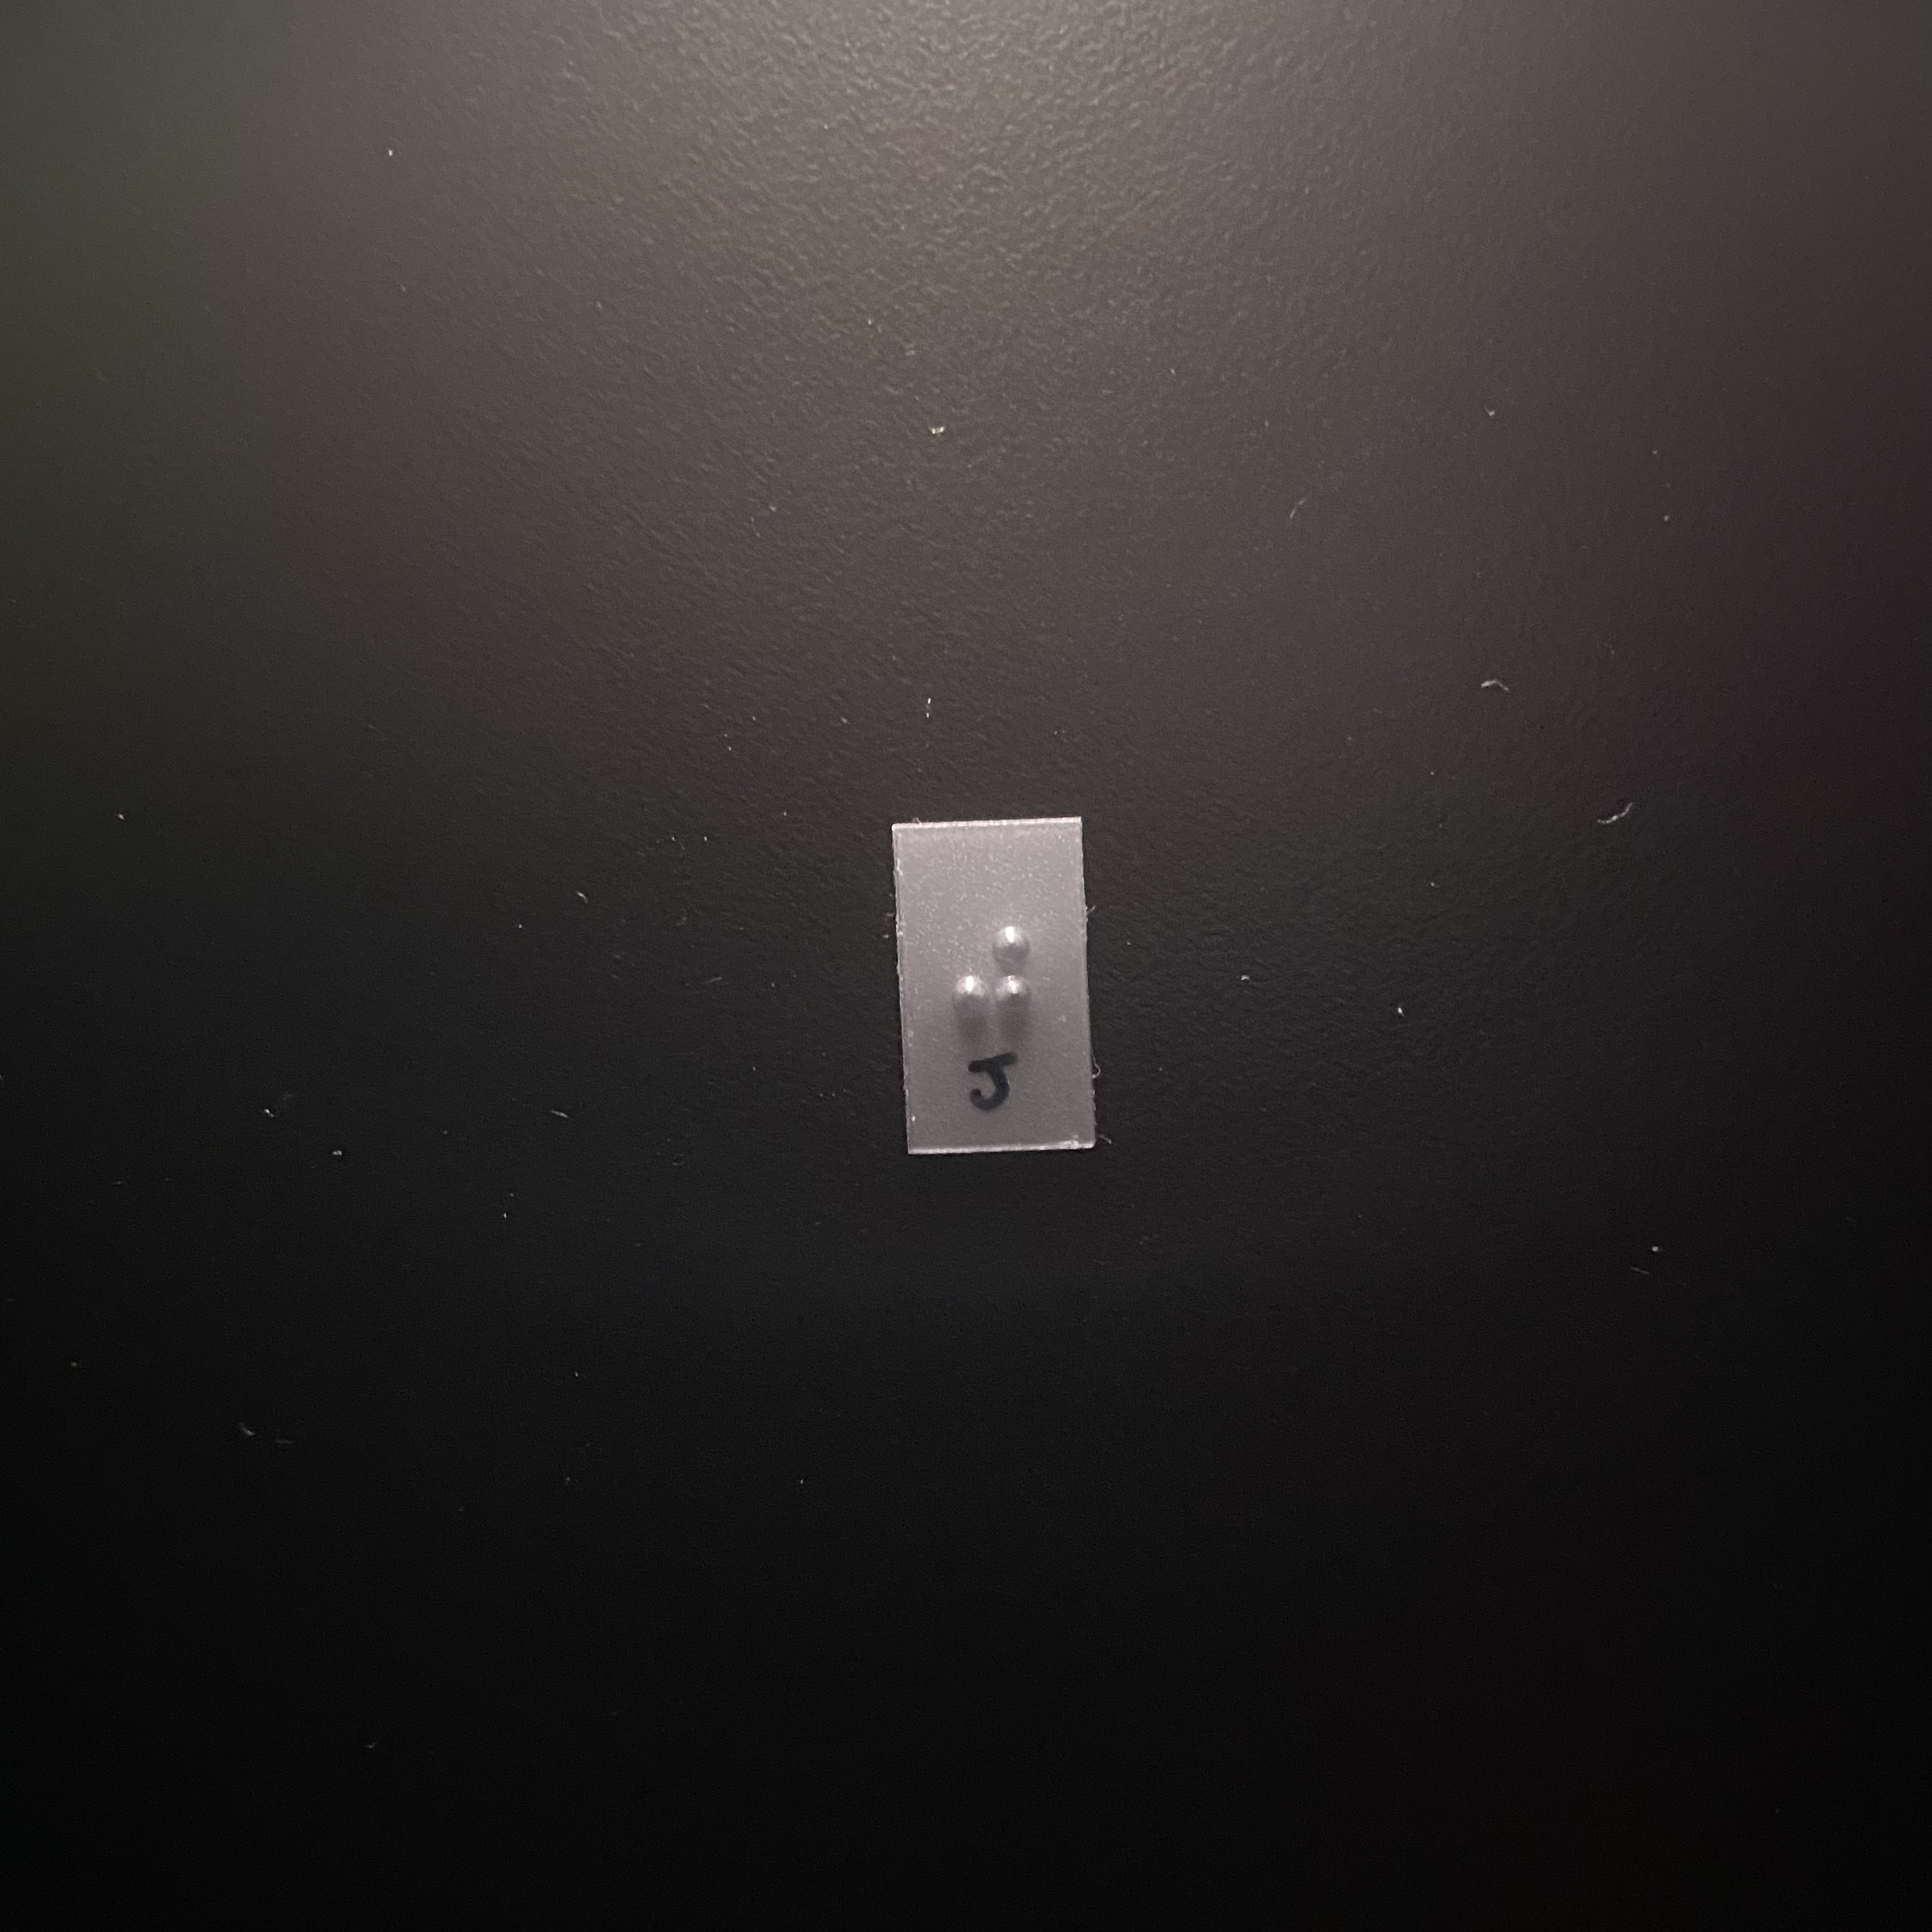j: (941, 914, 1056, 1079)
